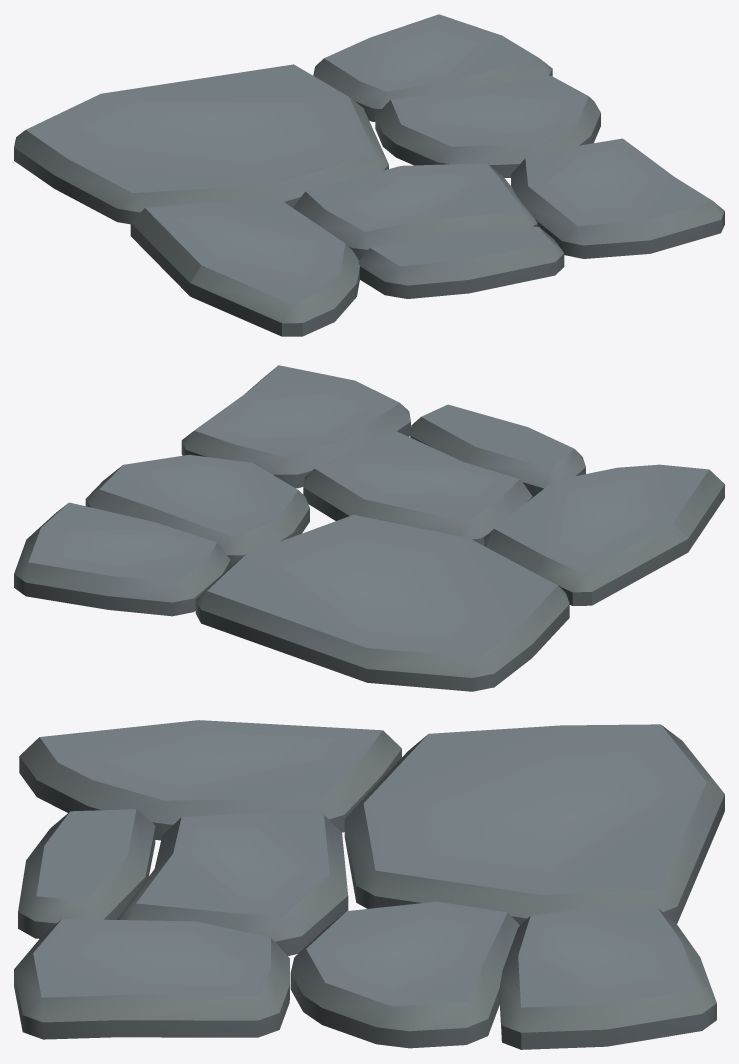
Rendered from path-a.glb.
3 views of the same model, one above another, from view 1: azimuth 30°, elevation 25°; view 2: azimuth 150°, elevation 25°; view 3: azimuth 270°, elevation 25° (orthographic). The views are drawn at different scales.
Parts seen in each view (by area): view 1: path_A; view 2: path_A; view 3: path_A.
Part boxes in pixels (bbox=[...]): path_A: bbox=[14, 14, 724, 336]; path_A: bbox=[14, 365, 724, 691]; path_A: bbox=[14, 720, 724, 1049].
Size of the model in its own units: 1.9 by 0.0999 by 1.88.
1 material, 1 textured.
